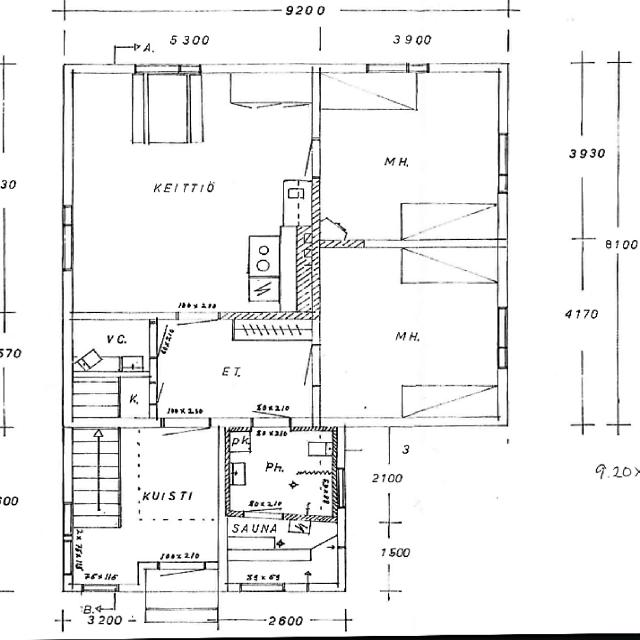door: (160, 418, 210, 473), (160, 561, 204, 610), (269, 344, 319, 384), (252, 380, 292, 428), (270, 138, 319, 176), (178, 312, 218, 357), (150, 322, 194, 358), (247, 478, 284, 518), (150, 378, 187, 408)
